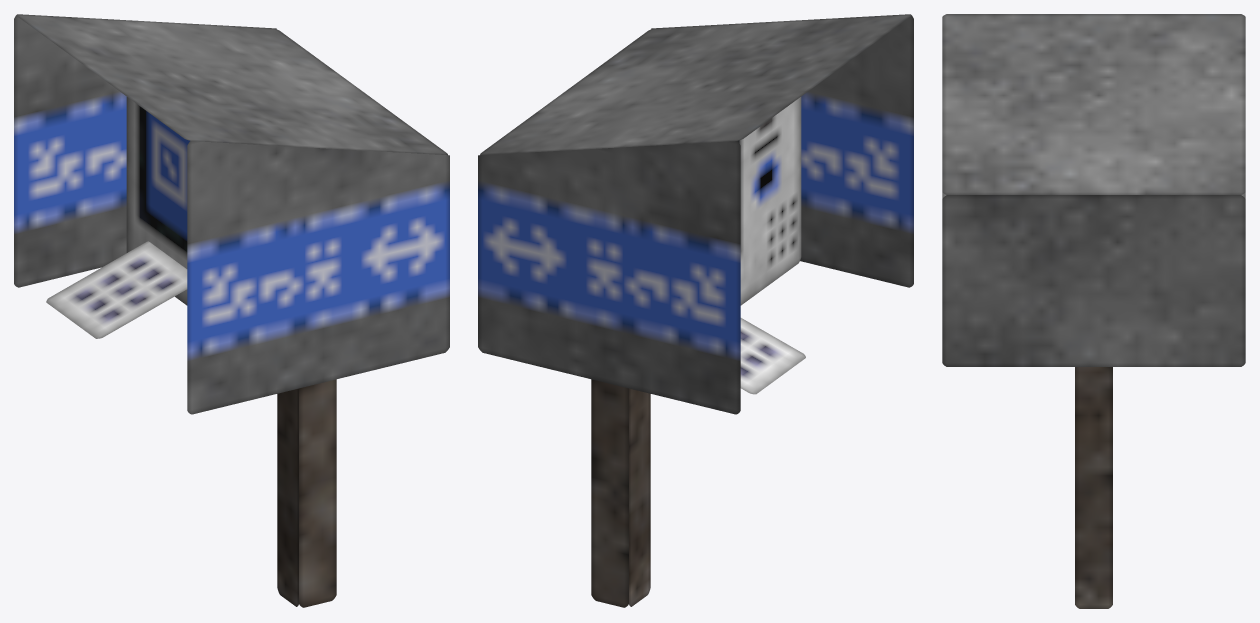
Rendered from ticket_machine.fbx.
The picture shows the model from 3 angles, left to right: view 1: azimuth 30°, elevation 25°; view 2: azimuth 150°, elevation 25°; view 3: azimuth 270°, elevation 25°; orthographic projection. The views are drawn at different scales.
Parts seen in each view (by area): view 1: plane, cuboid, plane_1; view 2: plane, cuboid, plane_1; view 3: plane, cuboid.
Boxes of the visible parts, x1,y1,x2,y2 form: plane: (14,14,449,414); cuboid: (277,379,336,607); plane_1: (46,241,187,338); plane: (478,14,913,414); cuboid: (591,379,650,607); plane_1: (740,318,805,394); plane: (942,14,1245,366); cuboid: (1075,367,1112,608).
Bounding box in the file's own units: 87.5 × 181 × 100.
Materials: 1 (1 with a texture image).
